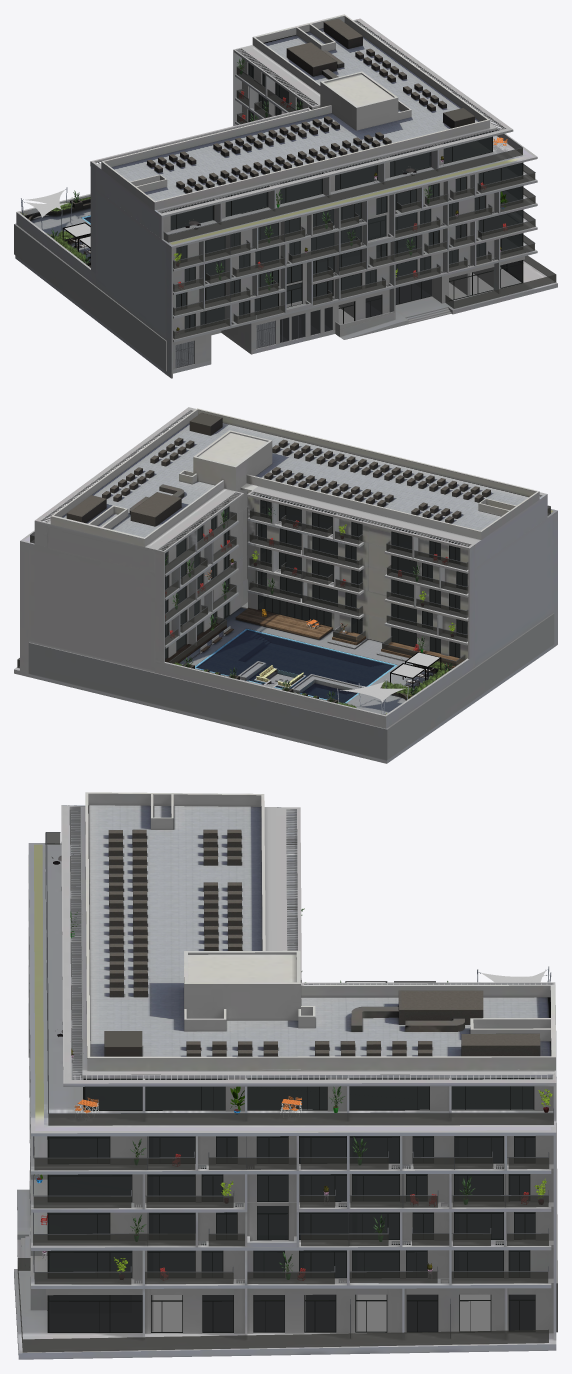
File: Roma_building.glb
3 views of the same model, one above another, from view 1: azimuth 30°, elevation 25°; view 2: azimuth 150°, elevation 25°; view 3: azimuth 270°, elevation 25° (orthographic). The views are drawn at different scales.
Parts seen in each view (by area): view 1: Roma_Build; view 2: Roma_Build; view 3: Roma_Build.
Part boxes in pixels (bbox=[...]): Roma_Build: bbox=[14, 14, 557, 378]; Roma_Build: bbox=[14, 407, 557, 763]; Roma_Build: bbox=[14, 792, 557, 1359].
Size of the model in its own units: 59.81 by 26.6 by 45.25.
14 materials, 14 textured.
